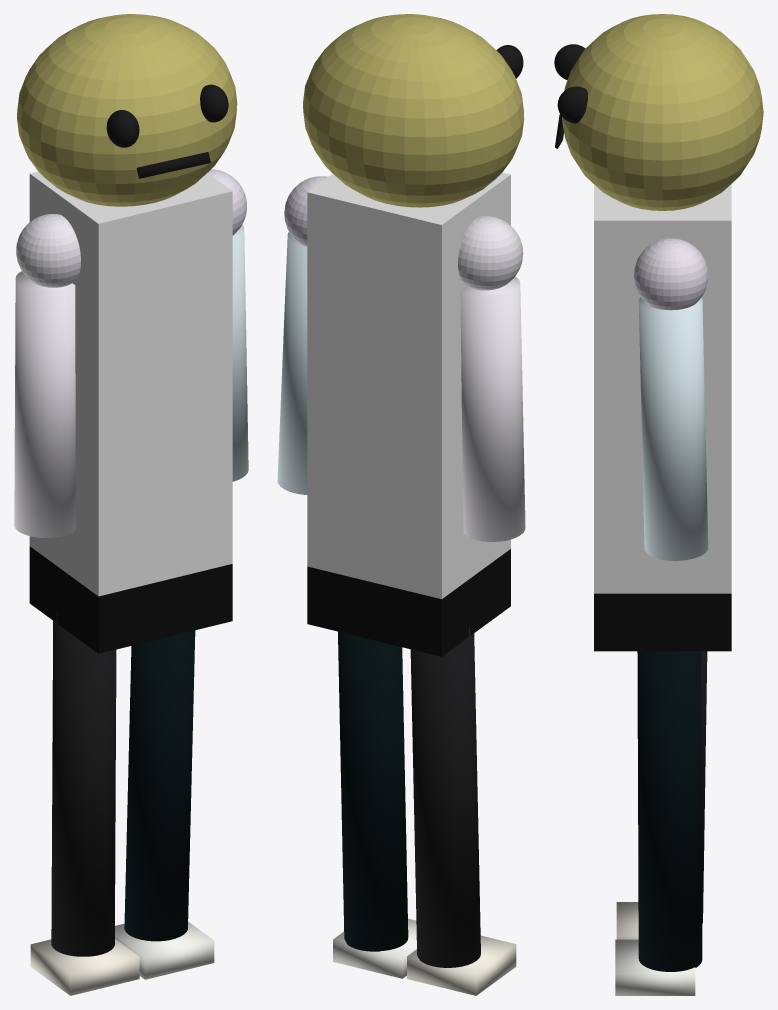
File: Client01.fbx
3 views of the same model, side by side, from view 1: azimuth 30°, elevation 25°; view 2: azimuth 150°, elevation 25°; view 3: azimuth 270°, elevation 25° (orthographic).
Visible parts, largest first — view 1: Client_Body, Client_Head, Cylinder.003, Cylinder.002, Cylinder, Cube.001, Sphere, Cylinder.001, Cube, Sphere.003, Sphere.001, Cube.015 (+1 smaller); view 2: Client_Body, Client_Head, Cylinder.003, Cylinder.002, Cylinder, Cylinder.001, Sphere, Cube.001, Cube, Sphere.001; view 3: Client_Body, Client_Head, Cylinder.002, Cylinder.001, Sphere.001, Cube, Cylinder.003, Sphere.002, Cube.001, Sphere.003.
Boxes of the visible parts, left/top/right/bottom form: Client_Body: left=29, top=171, right=232, bottom=653; Client_Head: left=17, top=14, right=237, bottom=206; Cylinder.003: left=51, top=612, right=116, bottom=956; Cylinder.002: left=124, top=630, right=195, bottom=941; Cylinder: left=14, top=271, right=75, bottom=537; Cube.001: left=30, top=939, right=139, bottom=995; Sphere: left=16, top=214, right=80, bottom=287; Cylinder.001: left=232, top=224, right=248, bottom=481; Cube: left=115, top=921, right=214, bottom=979; Sphere.003: left=106, top=110, right=139, bottom=147; Sphere.001: left=207, top=169, right=246, bottom=235; Cube.015: left=136, top=152, right=210, bottom=178; Client_Body: left=307, top=172, right=510, bottom=656; Client_Head: left=303, top=14, right=524, bottom=207; Cylinder.003: left=410, top=624, right=480, bottom=967; Cylinder.002: left=338, top=631, right=408, bottom=951; Cylinder: left=460, top=276, right=525, bottom=541; Cylinder.001: left=277, top=232, right=307, bottom=494; Sphere: left=458, top=216, right=523, bottom=290; Cube.001: left=407, top=935, right=516, bottom=995; Cube: left=333, top=918, right=416, bottom=978; Sphere.001: left=284, top=176, right=327, bottom=246; Client_Body: left=594, top=184, right=731, bottom=651; Client_Head: left=562, top=14, right=763, bottom=210; Cylinder.002: left=637, top=651, right=702, bottom=971; Cylinder.001: left=638, top=297, right=708, bottom=560; Sphere.001: left=634, top=238, right=708, bottom=310; Cube: left=615, top=939, right=695, bottom=995; Cylinder.003: left=701, top=651, right=707, bottom=923; Sphere.002: left=557, top=86, right=587, bottom=123; Cube.001: left=616, top=902, right=638, bottom=939; Sphere.003: left=554, top=44, right=585, bottom=79.
Size of the model in its own units: 136 by 524 by 106.
